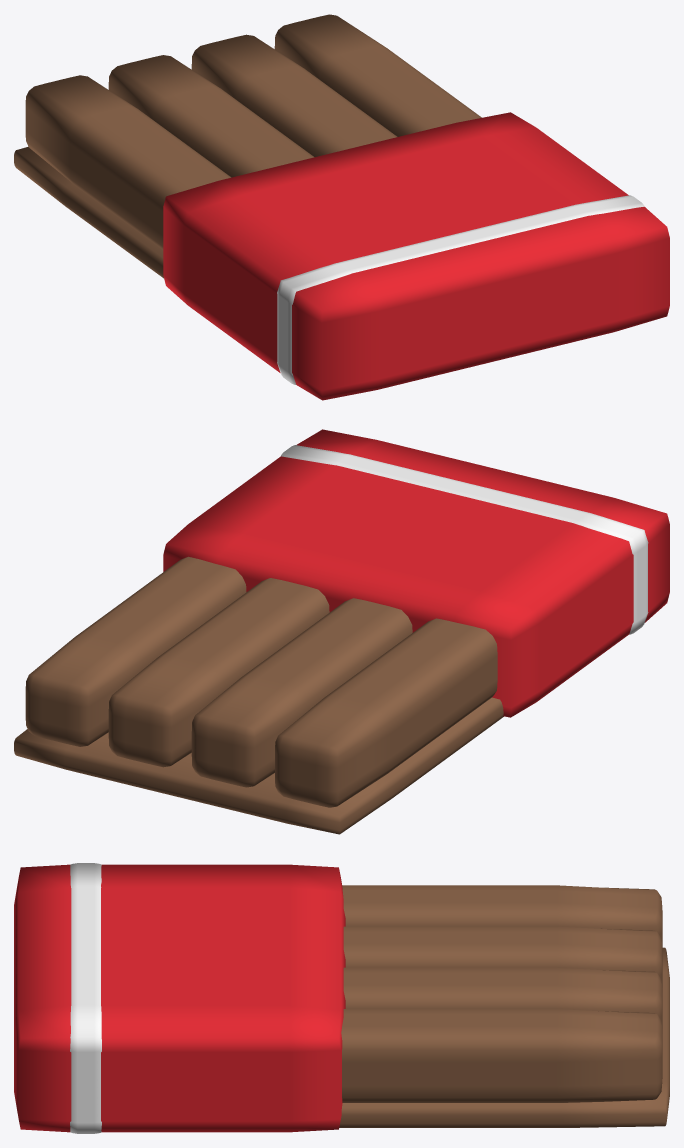
File: kitkat.glb
The picture shows the model from 3 angles, top to bottom: view 1: azimuth 30°, elevation 25°; view 2: azimuth 150°, elevation 25°; view 3: azimuth 270°, elevation 25°; orthographic projection.
Visible parts, largest first — view 1: Wrapper, Chocolate; view 2: Chocolate, Wrapper; view 3: Wrapper, Chocolate.
Boxes of the visible parts, x1=… form: Wrapper: x1=163, y1=112, x2=669, y2=400; Chocolate: x1=14, y1=14, x2=481, y2=278; Chocolate: x1=14, y1=556, x2=503, y2=834; Wrapper: x1=163, y1=429, x2=669, y2=717; Wrapper: x1=14, y1=863, x2=345, y2=1133; Chocolate: x1=339, y1=885, x2=669, y2=1127.
Size of the model in its own units: 0.0584 by 0.0162 by 0.091.
